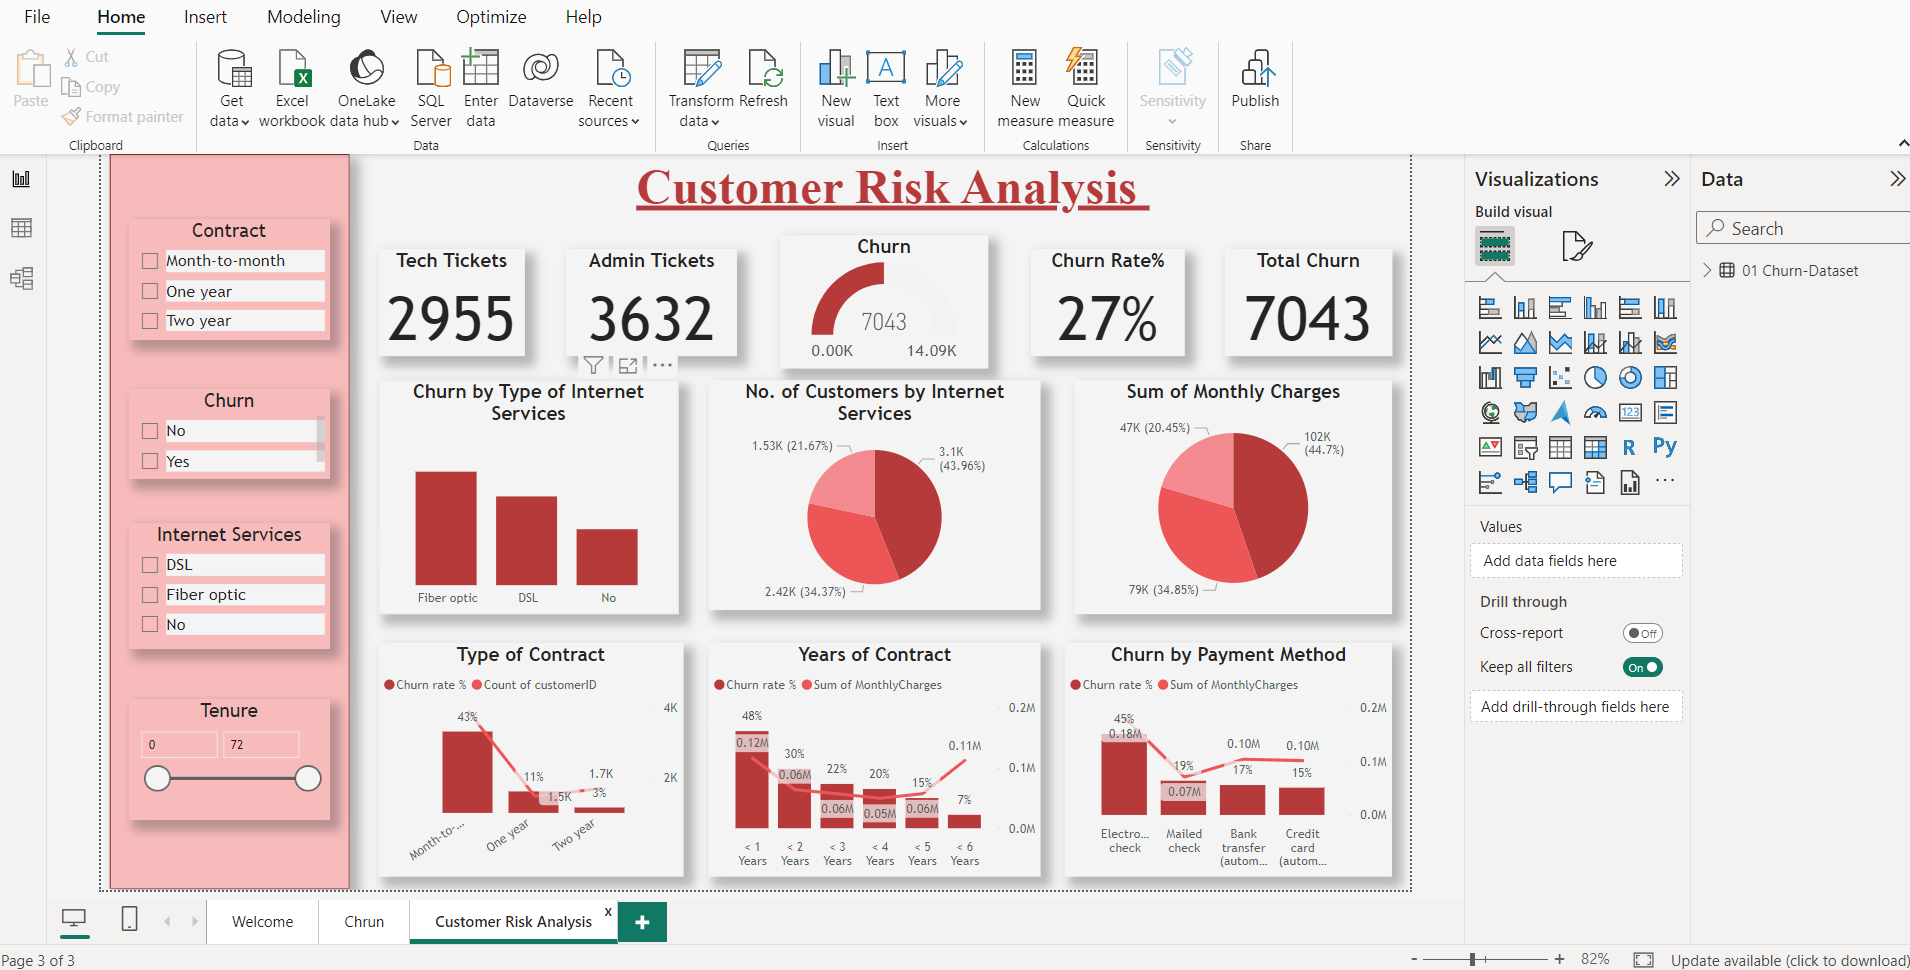

The page's visual inventory and layout, read from the dashboard file:
{"tool":"powerbi","page":{"name":"Customer Risk  Analysis","canvas":[1280,720],"ordinal":2},"visuals":[{"type":"textbox","box":[502.4,0,544,79.5],"z":0},{"type":"card","title":"Total Churn","fields":{"Values":["CountNonNull(01 Churn-Dataset.Churn)"]},"box":[1098.9,92.9,163.8,105.1],"z":1000},{"type":"card","title":"Churn Rate%","fields":{"Values":["01 Churn-Dataset.Churn rate %"]},"box":[909.5,92.9,150.4,105.1],"z":2000},{"type":"gauge","title":"Churn","fields":{"Y":["CountNonNull(01 Churn-Dataset.customerID)"]},"box":[663.8,79.5,204.1,130.8],"z":3000},{"type":"card","title":"Admin Tickets","fields":{"Values":["Sum(01 Churn-Dataset.numAdminTickets)"]},"box":[454.7,92.9,167.5,105.1],"z":4000},{"type":"card","title":"Tech Tickets","fields":{"Values":["Sum(01 Churn-Dataset.numTechTickets)"]},"box":[271.4,92.9,143,105.1],"z":5000},{"type":"shape","box":[8.6,0,234.7,718.8],"z":6000},{"type":"slicer","title":"Contract","fields":{"Values":["01 Churn-Dataset.Contract"]},"box":[26.9,63.6,196.8,118.6],"z":7000},{"type":"slicer","title":"Churn","fields":{"Values":["01 Churn-Dataset.Churn"]},"box":[26.9,229.8,196.8,88],"z":8000},{"type":"slicer","title":"Internet Services","fields":{"Values":["01 Churn-Dataset.InternetService"]},"box":[26.9,360.6,196.8,123.5],"z":9000},{"type":"slicer","title":"Tenure","fields":{"Values":["01 Churn-Dataset.tenure"]},"box":[26.9,533,196.8,118.6],"z":10000},{"type":"clusteredColumnChart","title":"Churn by Type of Internet Services","fields":{"Category":["01 Churn-Dataset.InternetService"],"Y":["CountNonNull(01 Churn-Dataset.Churn)"]},"box":[271.4,221.3,293.4,228.6],"z":11000},{"type":"pieChart","title":"No. of Customers by Internet Services","fields":{"Category":["01 Churn-Dataset.InternetService"],"Y":["CountNonNull(01 Churn-Dataset.customerID)"]},"box":[594.1,221.3,325.2,224.9],"z":12000},{"type":"pieChart","title":"Sum of Monthly Charges","fields":{"Category":["01 Churn-Dataset.InternetService"],"Y":["Sum(01 Churn-Dataset.tenure)"]},"box":[952.3,221.3,310.5,228.6],"z":13000},{"type":"lineClusteredColumnComboChart","title":"Type of Contract","fields":{"Category":["01 Churn-Dataset.Contract"],"Y":["01 Churn-Dataset.Churn rate %"],"Y2":["CountNonNull(01 Churn-Dataset.customerID)"]},"box":[271.4,478,298.3,228.6],"z":14000},{"type":"lineStackedColumnComboChart","title":"Years of Contract","fields":{"Category":["01 Churn-Dataset.Subscription"],"Y2":["Sum(01 Churn-Dataset.MonthlyCharges)"],"Y":["01 Churn-Dataset.Churn rate %"]},"box":[594.1,478,325.2,228.6],"z":15000},{"type":"lineStackedColumnComboChart","title":"Churn by Payment Method","fields":{"Category":["01 Churn-Dataset.PaymentMethod"],"Y":["01 Churn-Dataset.Churn rate %"],"Y2":["Sum(01 Churn-Dataset.MonthlyCharges)"]},"box":[942.5,478,320.3,228.6],"z":16000}]}

Visuals, with their boxes on the page's 1280x720 design canvas (x1, y1, x2, y2). These are canvas units, not pixel positions in the 1910x970 screenshot, which may show the page scaled, cropped or inside an application window:
textbox: [left=502, top=0, right=1046, bottom=80]
"Total Churn" card: [left=1099, top=93, right=1263, bottom=198]
"Churn Rate%" card: [left=910, top=93, right=1060, bottom=198]
"Churn" gauge: [left=664, top=80, right=868, bottom=210]
"Admin Tickets" card: [left=455, top=93, right=622, bottom=198]
"Tech Tickets" card: [left=271, top=93, right=414, bottom=198]
shape: [left=9, top=0, right=243, bottom=719]
"Contract" slicer: [left=27, top=64, right=224, bottom=182]
"Churn" slicer: [left=27, top=230, right=224, bottom=318]
"Internet Services" slicer: [left=27, top=361, right=224, bottom=484]
"Tenure" slicer: [left=27, top=533, right=224, bottom=652]
"Churn by Type of Internet Services" clusteredColumnChart: [left=271, top=221, right=565, bottom=450]
"No. of Customers by Internet Services" pieChart: [left=594, top=221, right=919, bottom=446]
"Sum of Monthly Charges" pieChart: [left=952, top=221, right=1263, bottom=450]
"Type of Contract" lineClusteredColumnComboChart: [left=271, top=478, right=570, bottom=707]
"Years of Contract" lineStackedColumnComboChart: [left=594, top=478, right=919, bottom=707]
"Churn by Payment Method" lineStackedColumnComboChart: [left=942, top=478, right=1263, bottom=707]
